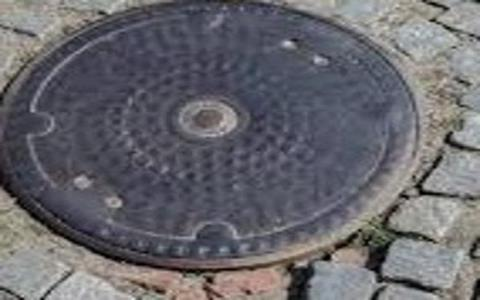proper manhole: (4, 1, 480, 296)
